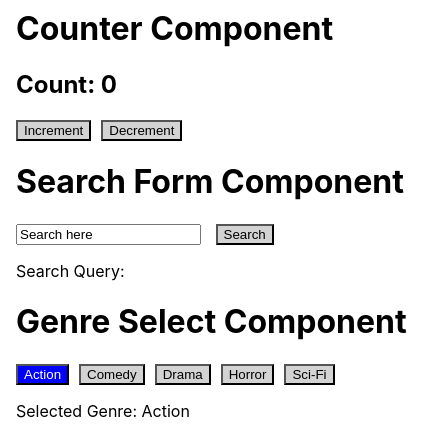
it: SearchForm Component E2E Test › updates the displayed query when searching via button click
Replace the text in the field with placeholder "Search..." with "new query" at (109, 235), box [16,224,201,245]
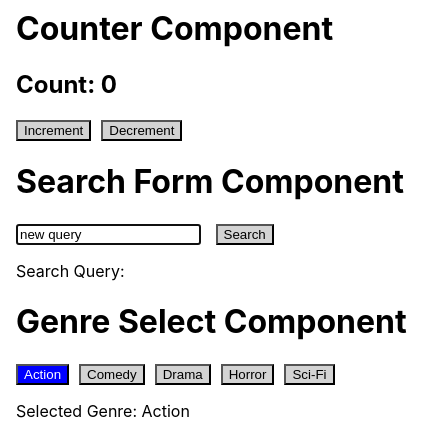
Click the button "Search".
click(245, 235)  # box [216,224,274,245]
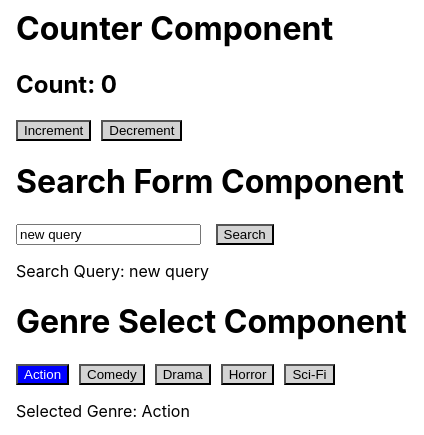
expect the text with id "search-result" reads "Search Query: new query": met, box [16,261,209,281]
